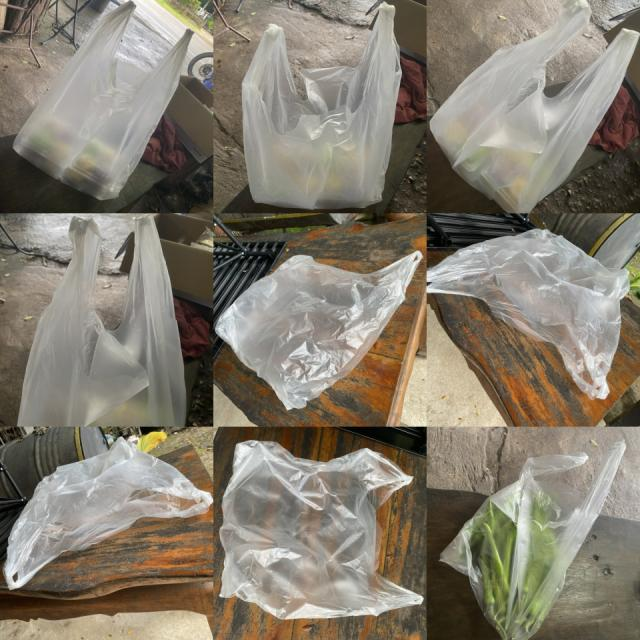Single-layer Plastic: (430, 0, 639, 212), (440, 441, 625, 640), (220, 440, 422, 619), (14, 1, 194, 200), (18, 215, 186, 426), (428, 229, 629, 399), (215, 251, 422, 409), (242, 4, 401, 208), (4, 439, 212, 589)
